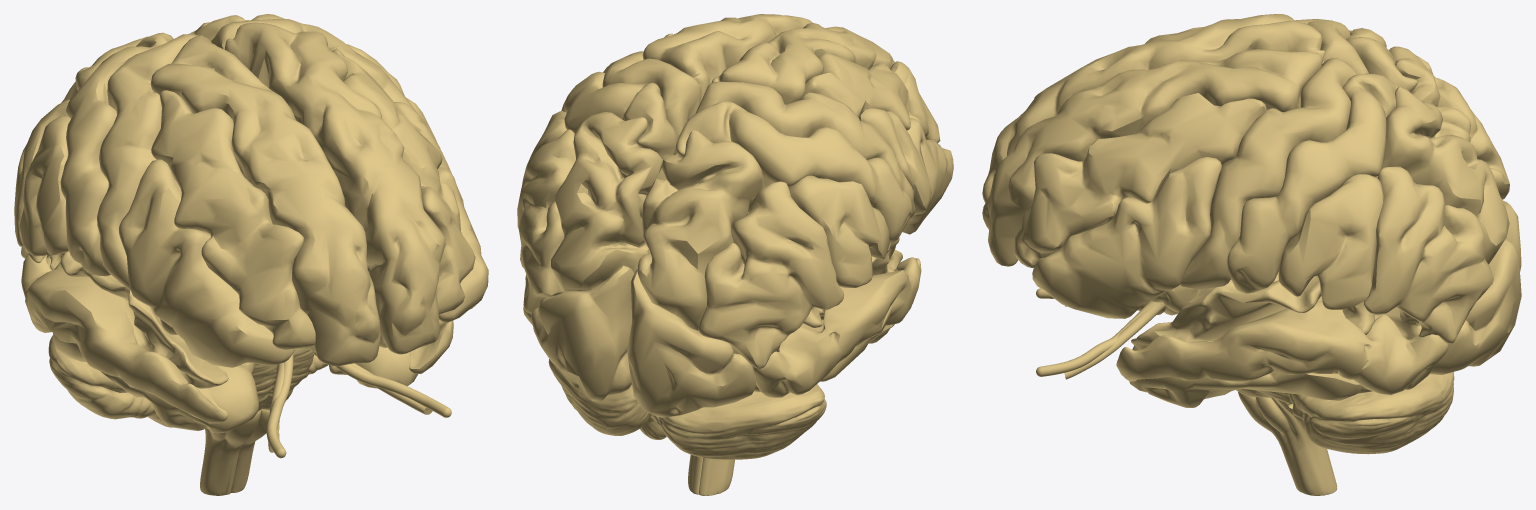
Rendered from cns.glb.
3 views of the same model, side by side, from view 1: azimuth 30°, elevation 25°; view 2: azimuth 150°, elevation 25°; view 3: azimuth 270°, elevation 25° (orthographic). The views are drawn at different scales.
Visible parts, largest first — view 1: bp3d_FMA72653_FJ1834, bp3d_FMA72654_FJ1833, bp3d_FMA72655_FJ1788, bp3d_FMA72657_FJ1745, bp3d_FMA72685_FJ1790, bp3d_FMA72661_FJ1801, bp3d_FMA72665_FJ1798, bp3d_FMA72656_FJ1787, bp3d_FMA72667_FJ1842, bp3d_FMA260791_FJ1806, bp3d_FMA72687_FJ1747, bp3d_FMA67944_FJ1830 (+13 smaller); view 2: bp3d_FMA72669_FJ1733, bp3d_FMA72671_FJ1836, bp3d_FMA72672_FJ1835, bp3d_FMA72975_FJ1792, bp3d_FMA72665_FJ1798, bp3d_FMA72976_FJ1791, bp3d_FMA72685_FJ1790, bp3d_FMA67944_FJ1830, bp3d_FMA72653_FJ1834, bp3d_FMA72667_FJ1842, bp3d_FMA72670_FJ1732, bp3d_FMA72661_FJ1801 (+11 smaller); view 3: bp3d_FMA72654_FJ1833, bp3d_FMA72656_FJ1787, bp3d_FMA72686_FJ1789, bp3d_FMA72658_FJ1744, bp3d_FMA72670_FJ1732, bp3d_FMA72666_FJ1797, bp3d_FMA72662_FJ1800, bp3d_FMA72653_FJ1834, bp3d_FMA72668_FJ1841, bp3d_FMA72672_FJ1835, bp3d_FMA67944_FJ1781, bp3d_FMA260794_FJ1758 (+9 smaller).
Part boxes in pixels (x1,y1,x2,y2): bp3d_FMA72653_FJ1834: [150, 35, 380, 366]; bp3d_FMA72654_FJ1833: [224, 22, 445, 354]; bp3d_FMA72655_FJ1788: [151, 90, 315, 349]; bp3d_FMA72657_FJ1745: [119, 159, 293, 367]; bp3d_FMA72685_FJ1790: [21, 254, 228, 423]; bp3d_FMA72661_FJ1801: [97, 34, 198, 290]; bp3d_FMA72665_FJ1798: [60, 32, 173, 276]; bp3d_FMA72656_FJ1787: [332, 48, 475, 314]; bp3d_FMA72667_FJ1842: [19, 116, 70, 256]; bp3d_FMA260791_FJ1806: [50, 251, 315, 388]; bp3d_FMA72687_FJ1747: [52, 333, 258, 433]; bp3d_FMA67944_FJ1830: [48, 335, 172, 427]; bp3d_FMA72669_FJ1733: [698, 181, 844, 368]; bp3d_FMA72671_FJ1836: [637, 130, 764, 330]; bp3d_FMA72672_FJ1835: [551, 112, 662, 292]; bp3d_FMA72975_FJ1792: [627, 269, 755, 417]; bp3d_FMA72665_FJ1798: [676, 101, 912, 242]; bp3d_FMA72976_FJ1791: [531, 265, 634, 401]; bp3d_FMA72685_FJ1790: [752, 257, 921, 397]; bp3d_FMA67944_FJ1830: [659, 384, 826, 459]; bp3d_FMA72653_FJ1834: [711, 23, 895, 104]; bp3d_FMA72667_FJ1842: [789, 175, 889, 287]; bp3d_FMA72670_FJ1732: [517, 129, 575, 313]; bp3d_FMA72661_FJ1801: [695, 81, 915, 219]; bp3d_FMA72654_FJ1833: [982, 49, 1323, 266]; bp3d_FMA72656_FJ1787: [1014, 93, 1266, 267]; bp3d_FMA72686_FJ1789: [1116, 301, 1448, 395]; bp3d_FMA72658_FJ1744: [1032, 157, 1221, 318]; bp3d_FMA72670_FJ1732: [1364, 166, 1493, 343]; bp3d_FMA72666_FJ1797: [1227, 73, 1398, 293]; bp3d_FMA72662_FJ1800: [1180, 58, 1357, 289]; bp3d_FMA72653_FJ1834: [982, 14, 1324, 202]; bp3d_FMA72668_FJ1841: [1278, 174, 1384, 309]; bp3d_FMA72672_FJ1835: [1375, 87, 1509, 264]; bp3d_FMA67944_FJ1781: [1289, 372, 1454, 454]; bp3d_FMA260794_FJ1758: [1131, 272, 1421, 349].
Bounding box in the file's own units: 0.1388 × 0.166 × 0.18.
